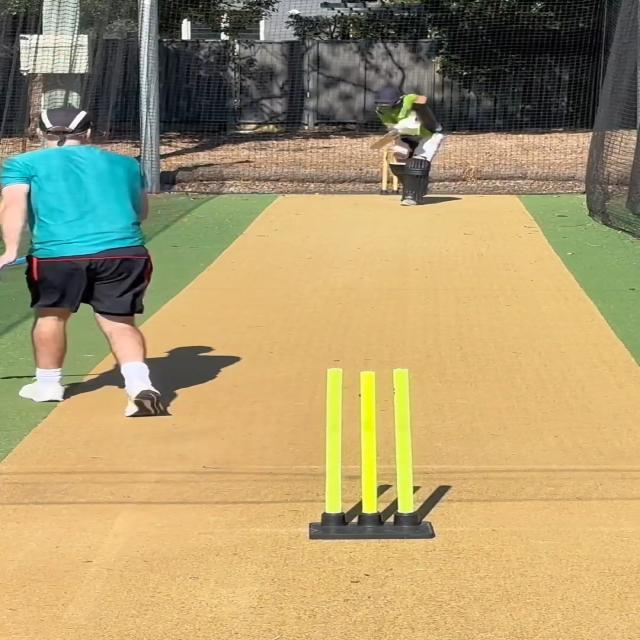stump: (306, 360, 437, 540)
